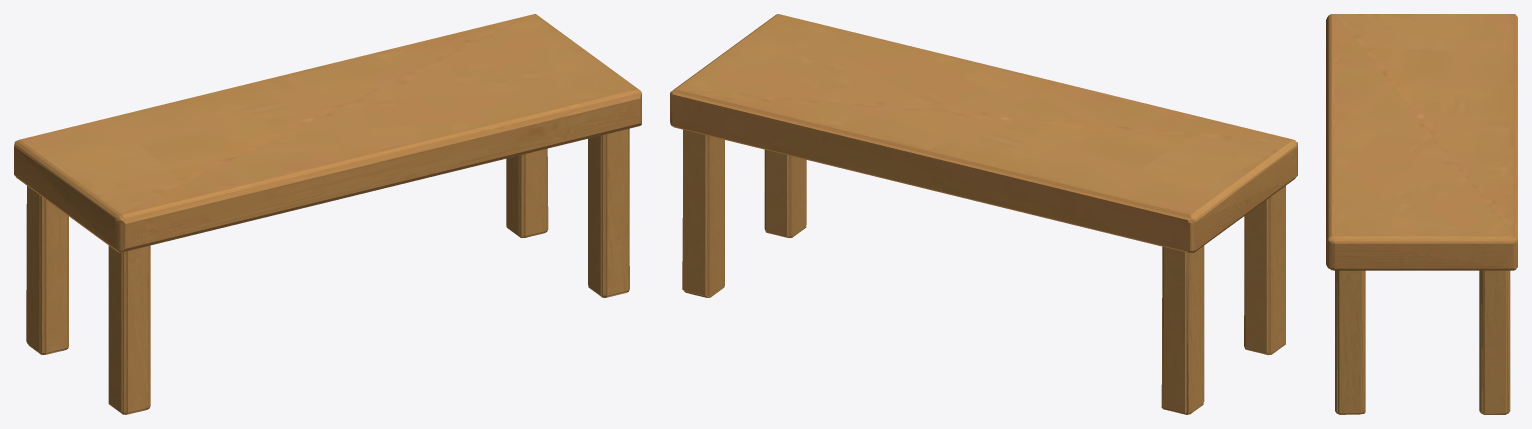
File: mesa-brinquedo.glb
The picture shows the model from 3 angles, left to right: view 1: azimuth 30°, elevation 25°; view 2: azimuth 150°, elevation 25°; view 3: azimuth 270°, elevation 25°; orthographic projection. The views are drawn at different scales.
Size of the model in its own units: 1.91 by 0.7084 by 0.681.
Materials: 1 (1 with a texture image).
